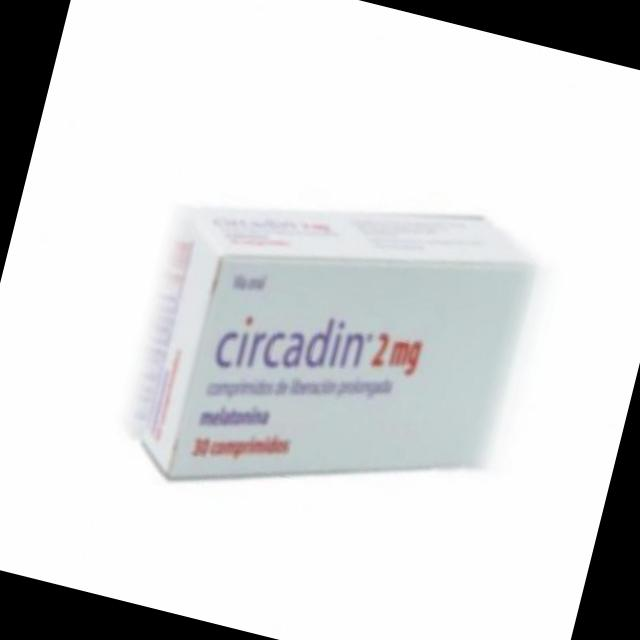box: (117, 152, 545, 549)
